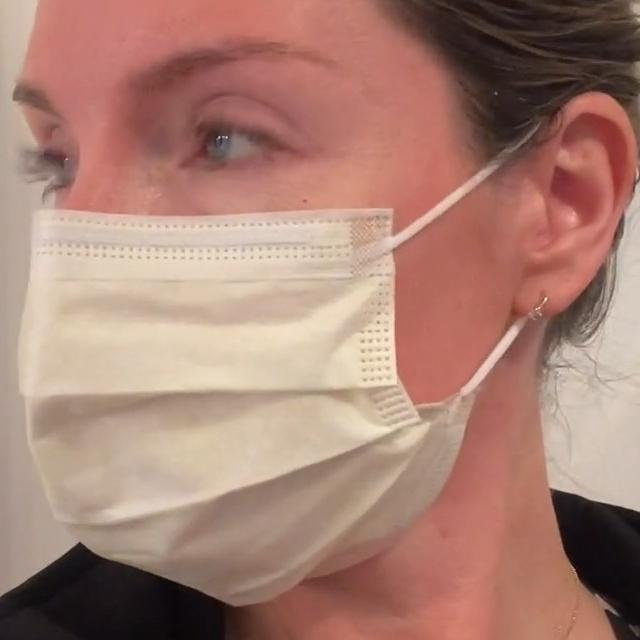Mask: (14, 113, 548, 601)
Person: (0, 0, 640, 640)
